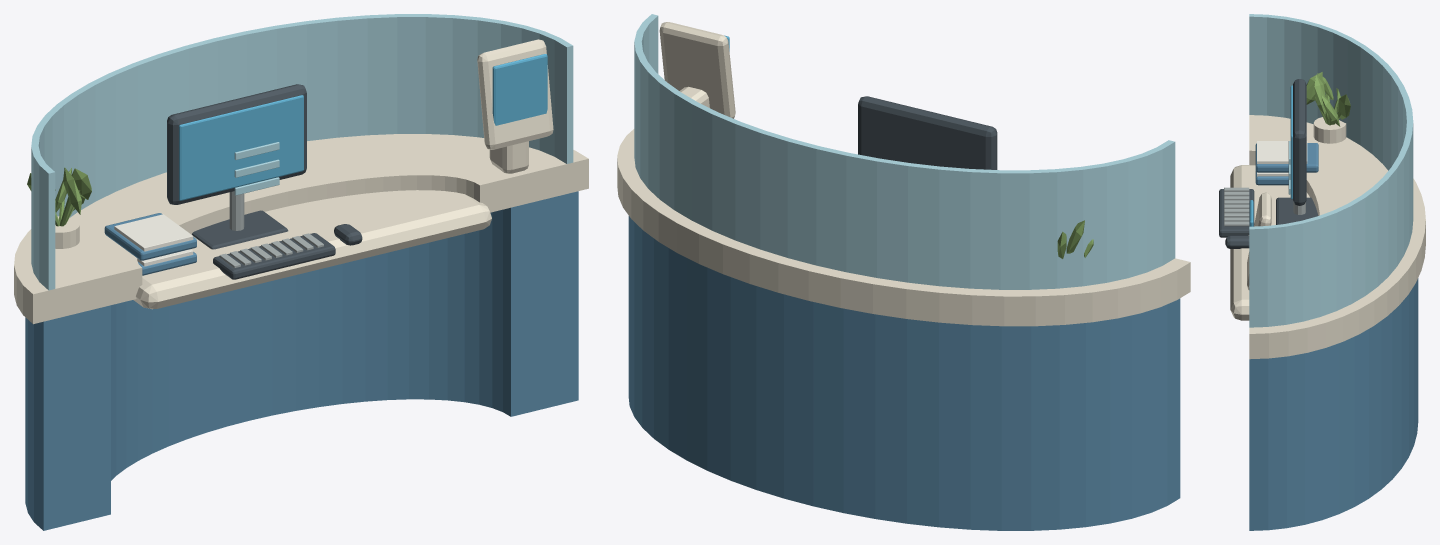
File: reception_T3_desk.glb
3 renders of one model, left to right at view 1: azimuth 30°, elevation 25°; view 2: azimuth 150°, elevation 25°; view 3: azimuth 270°, elevation 25°, orthographic. The views are drawn at different scales.
Parts seen in each view (by area): view 1: reception_T3_desk__Static_Assembly; view 2: reception_T3_desk__Static_Assembly; view 3: reception_T3_desk__Static_Assembly.
Boxes of the visible parts, <box> form: reception_T3_desk__Static_Assembly: <box>14,14,588,530</box>; reception_T3_desk__Static_Assembly: <box>617,14,1190,530</box>; reception_T3_desk__Static_Assembly: <box>1219,14,1425,530</box>.
Bounding box in the file's own units: 2.14 × 1.33 × 0.82.
